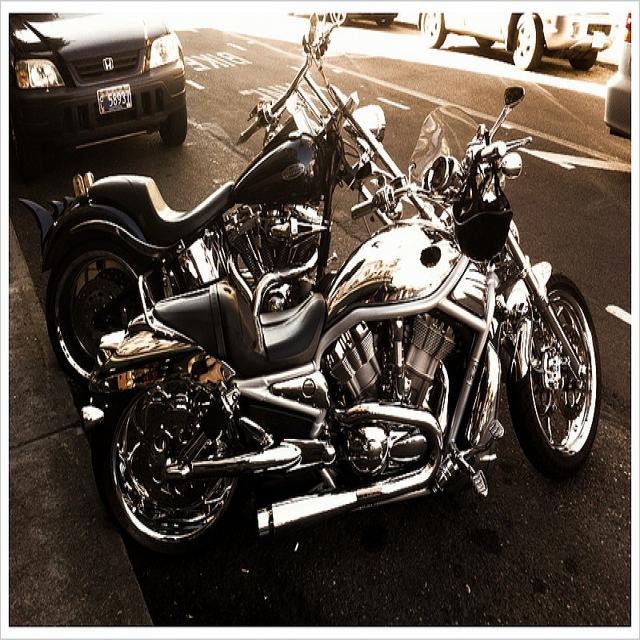motor: (81, 86, 603, 559), (22, 14, 408, 381)
